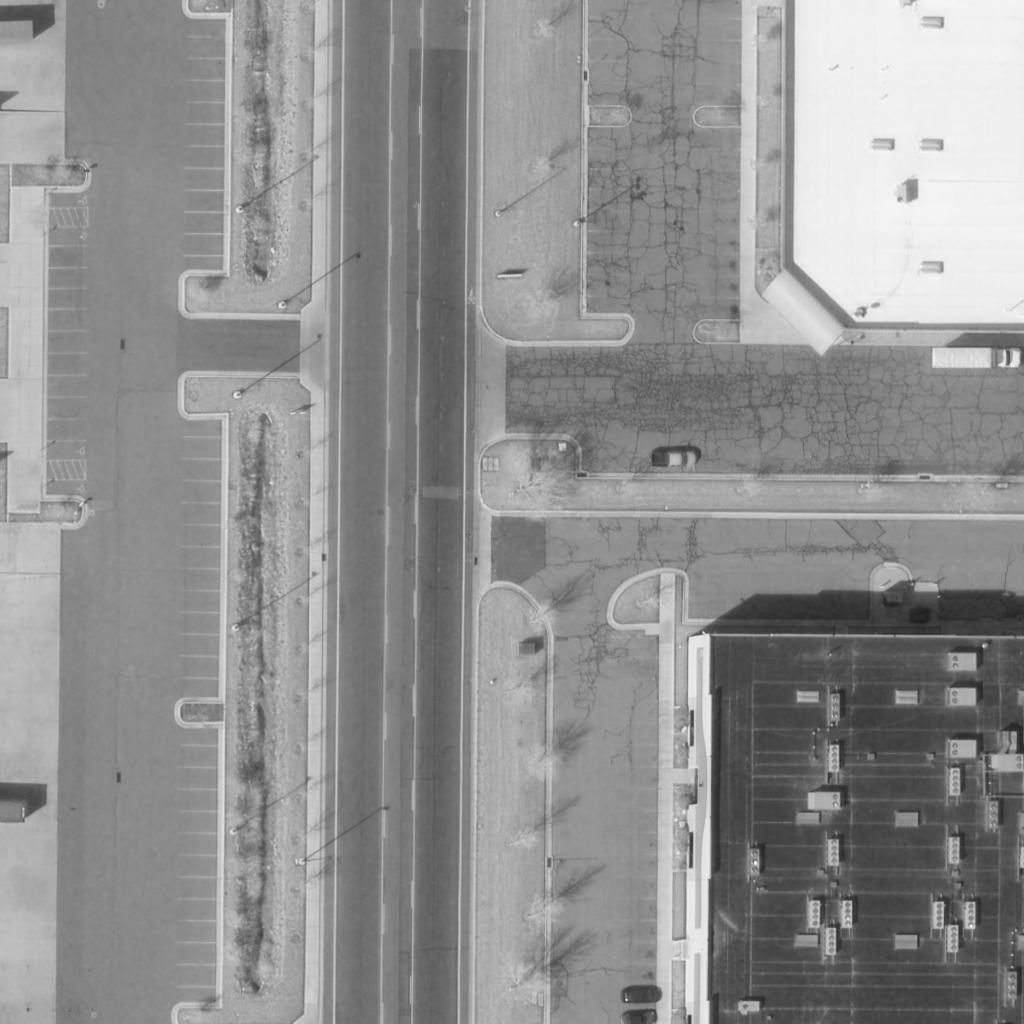vehicle: (930, 346, 1024, 368), (648, 450, 700, 468), (621, 986, 663, 1004), (620, 1009, 658, 1024)
